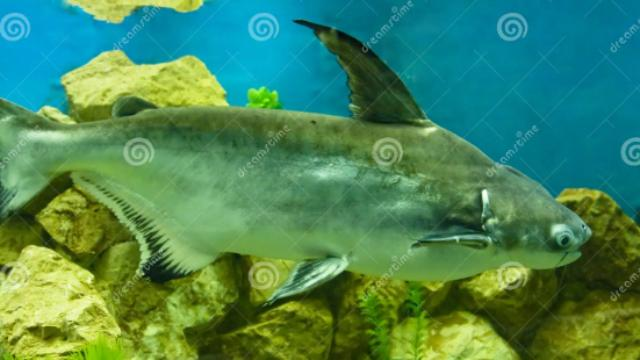Mulut: (558, 212, 600, 272)
Sirip Anal: (68, 168, 216, 284)
Sirip Dada: (412, 216, 496, 258)
Sirip Perut: (250, 253, 354, 314)
Sirip Punggung: (293, 13, 429, 126)
